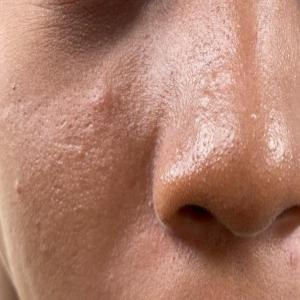Oily-Skin: (133, 0, 300, 245)
